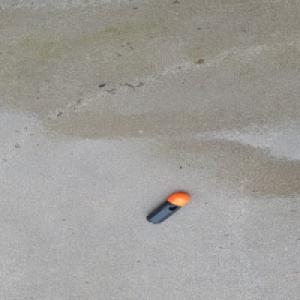PlasticPart: (145, 192, 191, 224)
